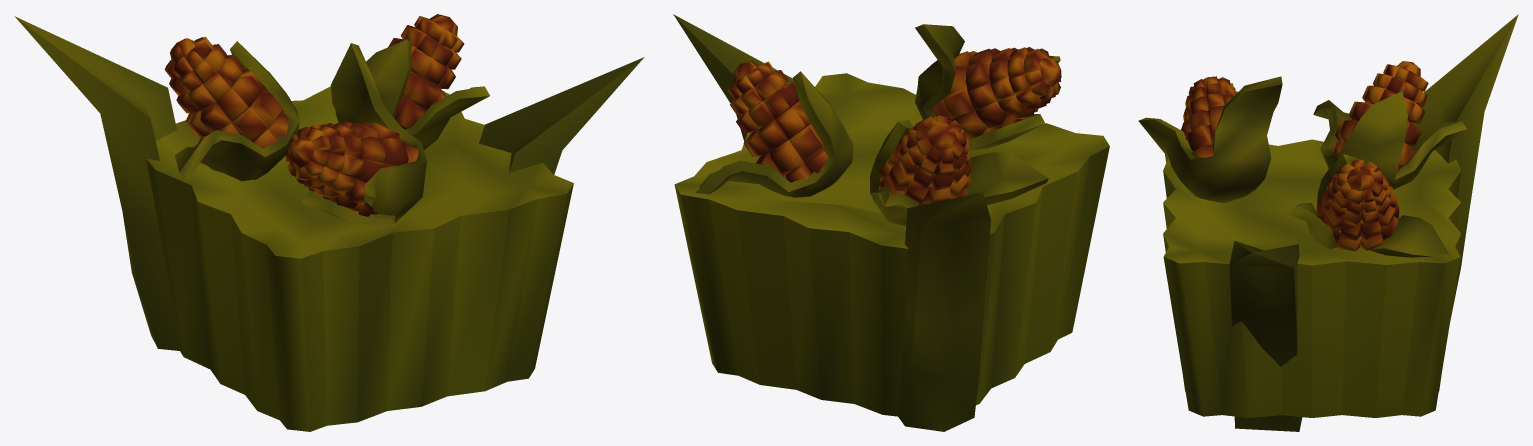
File: Farm_Crop_Corn_Dead.glb
The picture shows the model from 3 angles, left to right: view 1: azimuth 30°, elevation 25°; view 2: azimuth 150°, elevation 25°; view 3: azimuth 270°, elevation 25°; orthographic projection. The views are drawn at different scales.
Visible parts, largest first — view 1: Farm_Crop_Corn_Dead; view 2: Farm_Crop_Corn_Dead; view 3: Farm_Crop_Corn_Dead.
Boxes of the visible parts, x1,y1,x2,y2 form: Farm_Crop_Corn_Dead: (14, 14, 644, 431); Farm_Crop_Corn_Dead: (673, 14, 1109, 431); Farm_Crop_Corn_Dead: (1138, 14, 1518, 431).
Bounding box in the file's own units: 3.19 × 2.25 × 2.56.
1 material, 1 textured.
